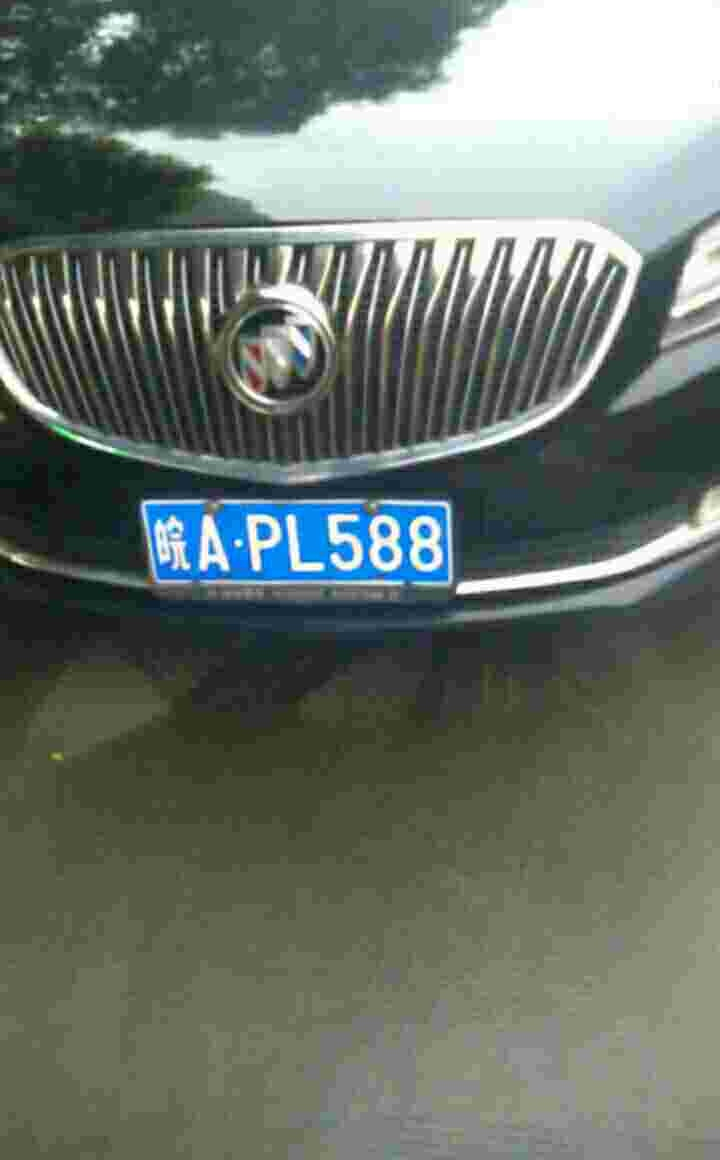license_plate: (140, 503, 443, 586)
